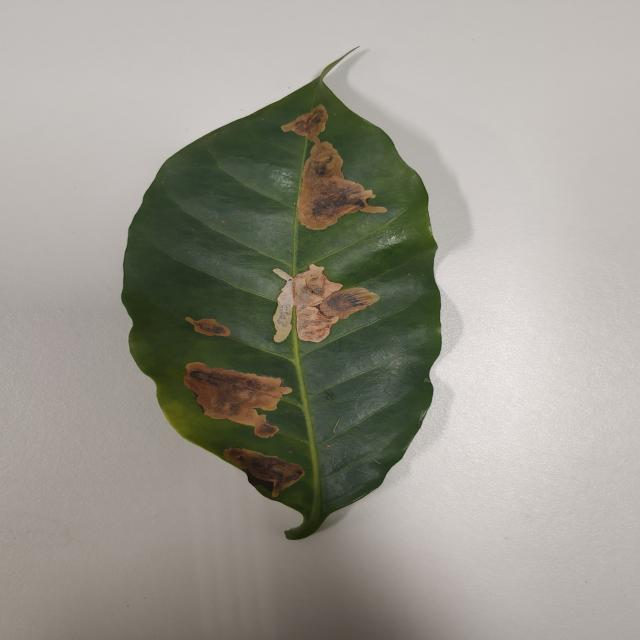Plaga-Minador: (120, 48, 443, 543)
